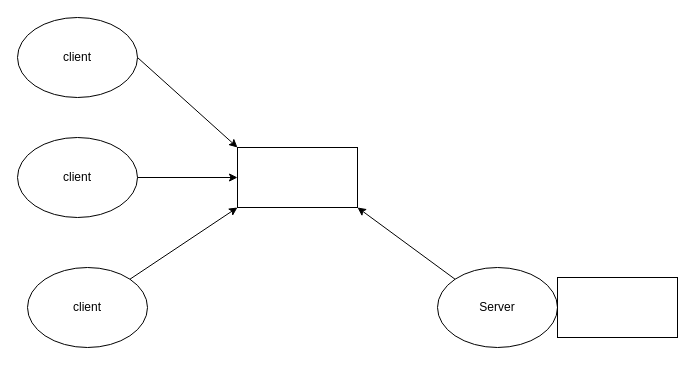
Image size: 695x365. Some labels were removed from this diagram. The shapes that lost their labels are listed below. From the top down, each one's box as (x1, y1, x2, y2) in pixels, then its label:
(236, 146, 358, 208): cert
(556, 276, 678, 338): private key
